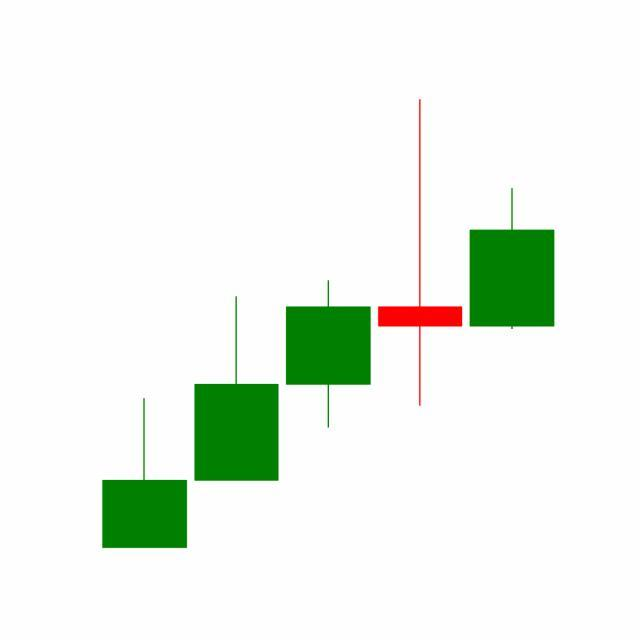Spinning Top: (374, 96, 468, 410)
